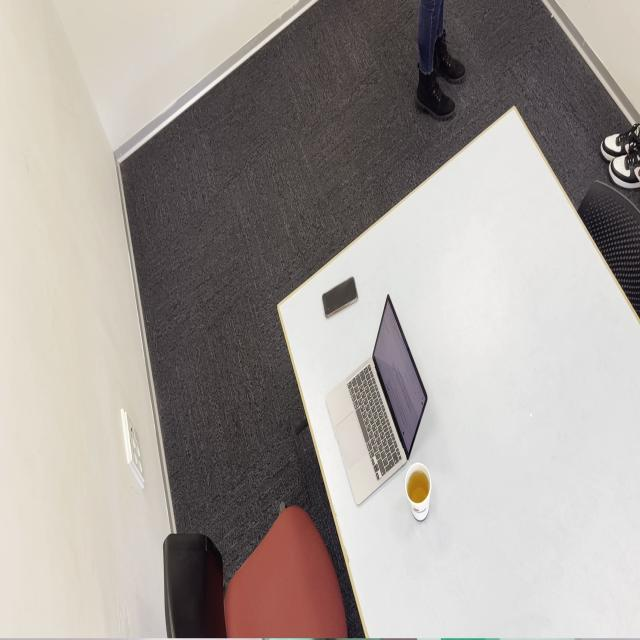bag: (321, 275, 358, 319)
ipad: (414, 0, 465, 120)
laptop: (325, 293, 428, 507)
